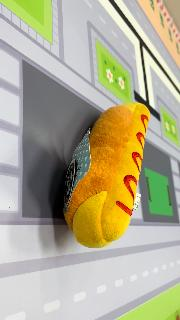hotdog: (63, 101, 151, 249)
